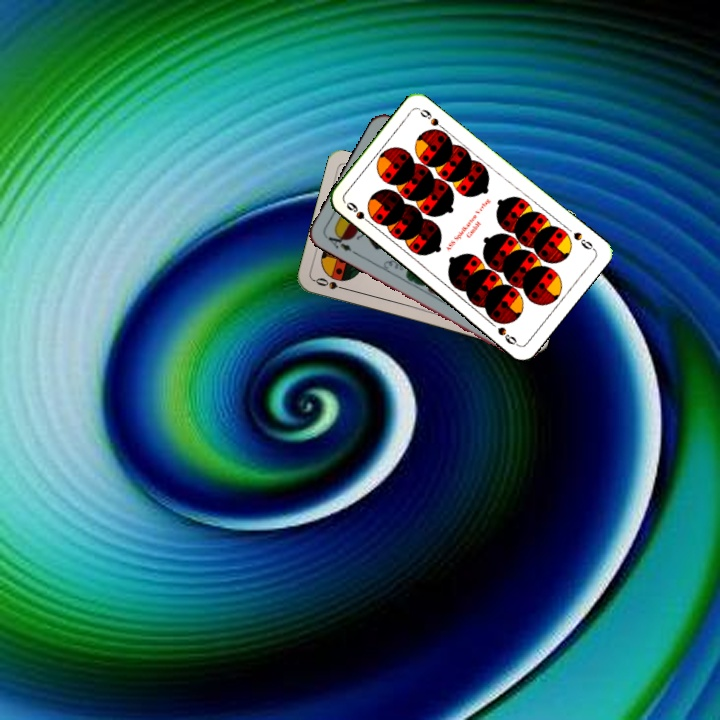EA: (322, 228, 359, 257)
S9: (342, 198, 376, 228), (569, 228, 598, 253)
SO: (311, 274, 351, 293)
